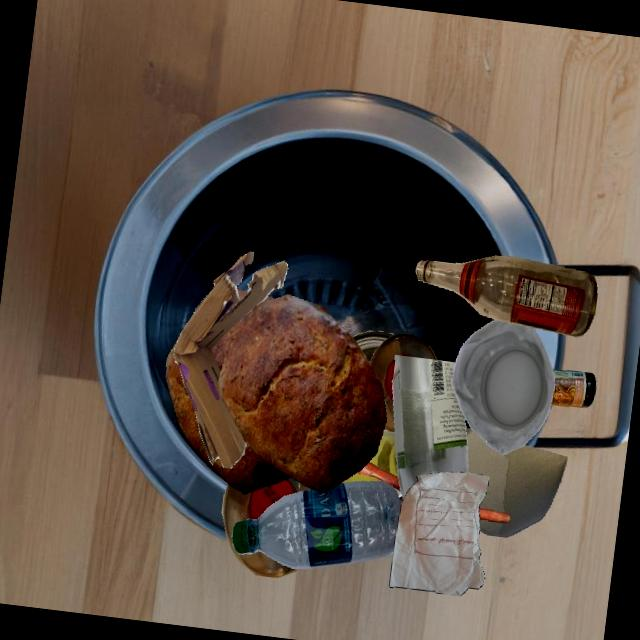biowaste: (218, 294, 386, 493), (165, 337, 290, 493), (357, 461, 400, 490), (478, 507, 510, 522)
cardboard: (173, 251, 287, 469), (465, 427, 567, 537)
glass: (414, 255, 597, 336), (391, 354, 468, 498), (550, 369, 596, 407), (368, 430, 398, 477), (352, 330, 394, 363), (299, 481, 398, 495)
paper: (388, 471, 489, 596)
plastic: (231, 481, 401, 568), (451, 319, 554, 454), (221, 476, 300, 578), (369, 333, 437, 432)
